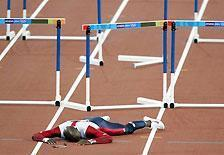Fall-Detected: (30, 106, 161, 145)
